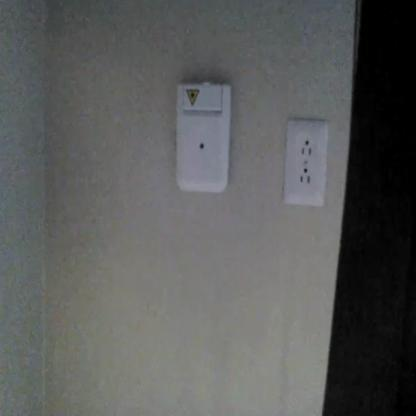OUTLET: (283, 121, 328, 206)
